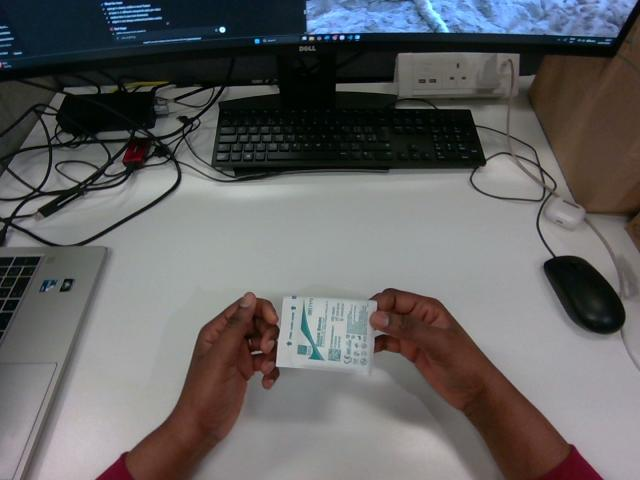gauze: (276, 296, 376, 374)
